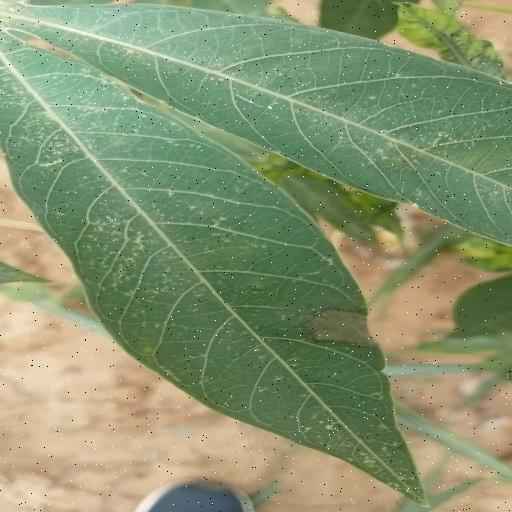Cassava_Brown_Leaf_Spot: (5, 0, 512, 504)
